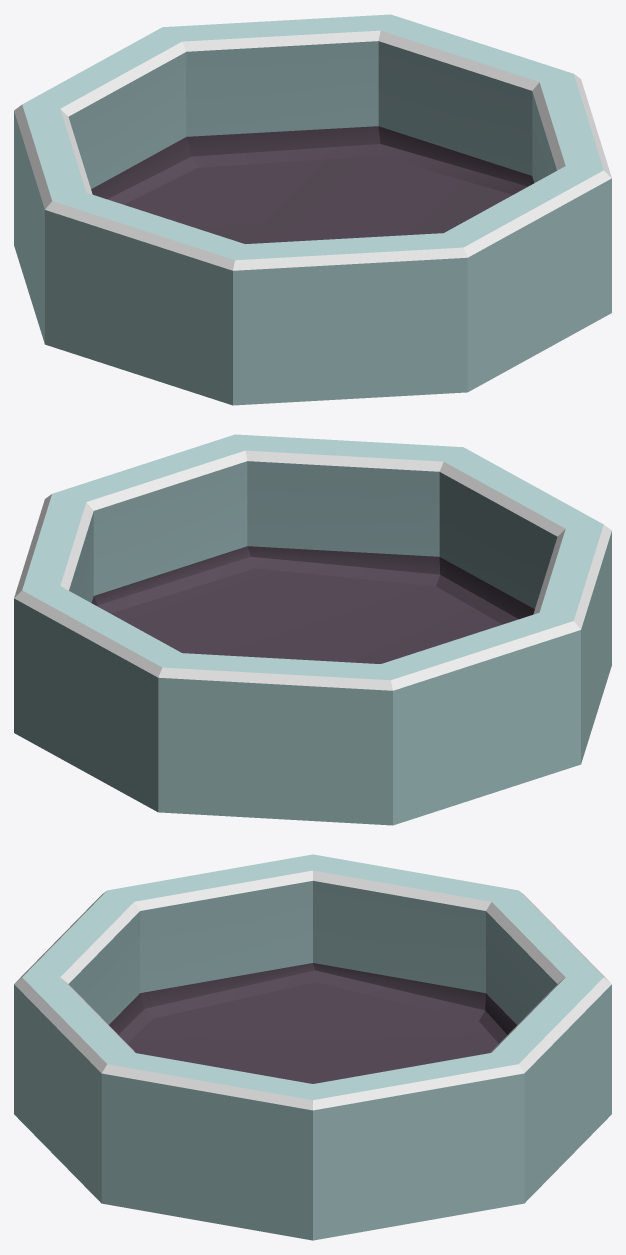
Rendered from SM_Prop_Cup_01V2.fbx.
The picture shows the model from 3 angles, top to bottom: view 1: azimuth 30°, elevation 25°; view 2: azimuth 150°, elevation 25°; view 3: azimuth 270°, elevation 25°; orthographic projection. The views are drawn at different scales.
Parts seen in each view (by area): view 1: SM_Prop_Cup_02; view 2: SM_Prop_Cup_02; view 3: SM_Prop_Cup_02.
Part boxes in pixels (left/top/right/bottom): SM_Prop_Cup_02: left=14, top=14, right=611, bottom=405; SM_Prop_Cup_02: left=14, top=434, right=611, bottom=825; SM_Prop_Cup_02: left=14, top=854, right=611, bottom=1240.
Size of the model in its own units: 0.5064 by 0.128 by 0.5064.
Materials: 1 (1 with a texture image).
